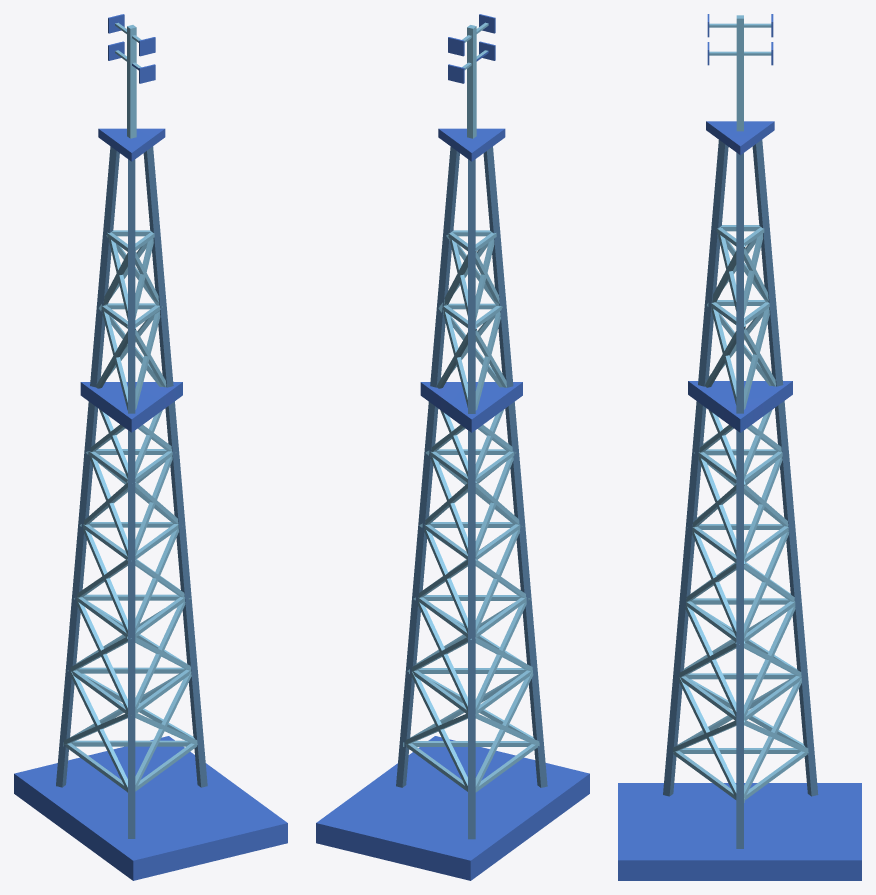
The model's file is M_Antenna.fbx.
3 renders of one model, left to right at view 1: azimuth 30°, elevation 25°; view 2: azimuth 150°, elevation 25°; view 3: azimuth 270°, elevation 25°, orthographic. The views are drawn at different scales.
Visible parts, largest first — view 1: M_antenna; view 2: M_antenna; view 3: M_antenna.
Part boxes in pixels (box(x1,y1,x2,y2)): M_antenna: box(14, 14, 287, 880); M_antenna: box(316, 14, 589, 880); M_antenna: box(618, 14, 861, 880).
Bounding box in the file's own units: 12 × 59.12 × 16.
Materials: 1 (1 with a texture image).
